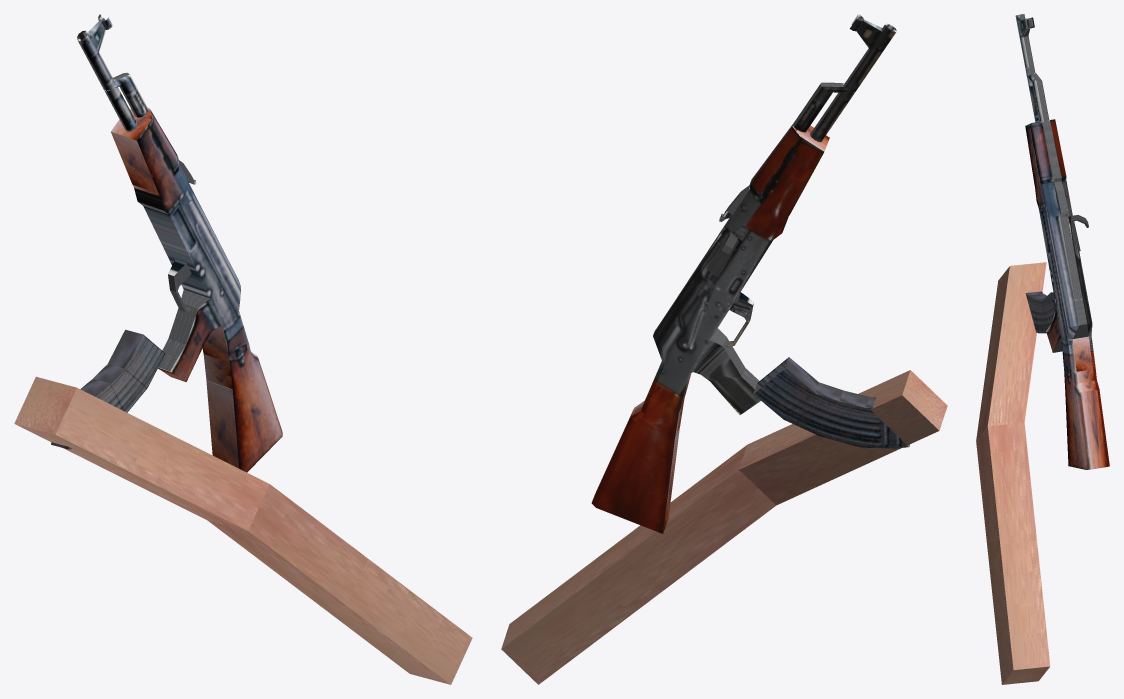
3 renders of one model, left to right at view 1: azimuth 30°, elevation 25°; view 2: azimuth 150°, elevation 25°; view 3: azimuth 270°, elevation 25°, orthographic. The views are drawn at different scales.
Visible parts, largest first — view 1: Cube.001_Cube.006, Cube.007_Cube.005, Cube.002_Cube.003; view 2: Cube.001_Cube.006, Cube.007_Cube.005, Cube.002_Cube.003; view 3: Cube.001_Cube.006, Cube.007_Cube.005, Cube.002_Cube.003.
Boxes of the visible parts, x1,y1,x2,y2 form: Cube.001_Cube.006: (14,376,472,684); Cube.007_Cube.005: (77,14,282,472); Cube.002_Cube.003: (51,329,165,449); Cube.001_Cube.006: (501,370,947,684); Cube.007_Cube.005: (591,14,896,533); Cube.002_Cube.003: (753,357,909,448); Cube.001_Cube.006: (976,262,1050,684); Cube.007_Cube.005: (1015,14,1109,469); Cube.002_Cube.003: (1025,291,1055,333).
Size of the model in its own units: 7.87 by 12.53 by 2.76.
